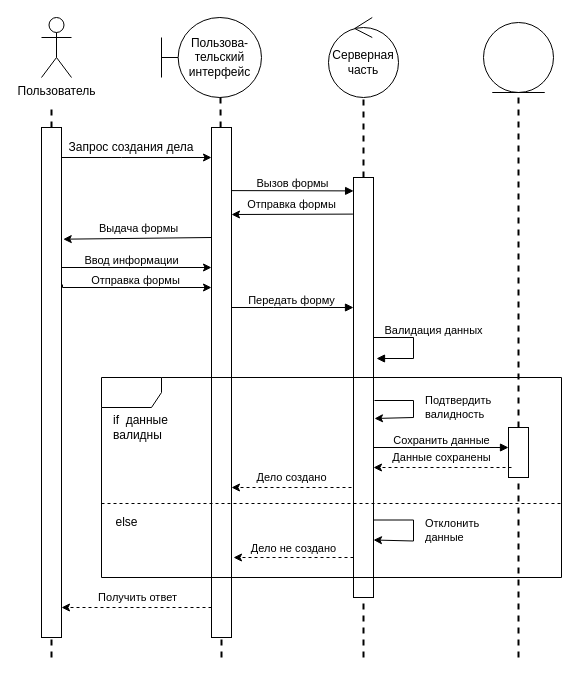
Some shapes in this 579 by 677 pixel diagram are drawn without their labels. Here are the shapes that lost their labels. From the top down, the centre of each, then its label:
At pixel 518 57: "База данных".
At pixel 331 477: "alt".
